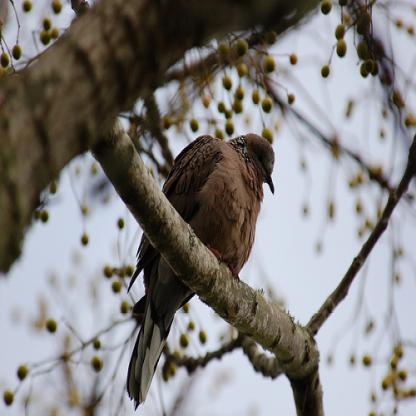bird: (126, 133, 276, 408)
